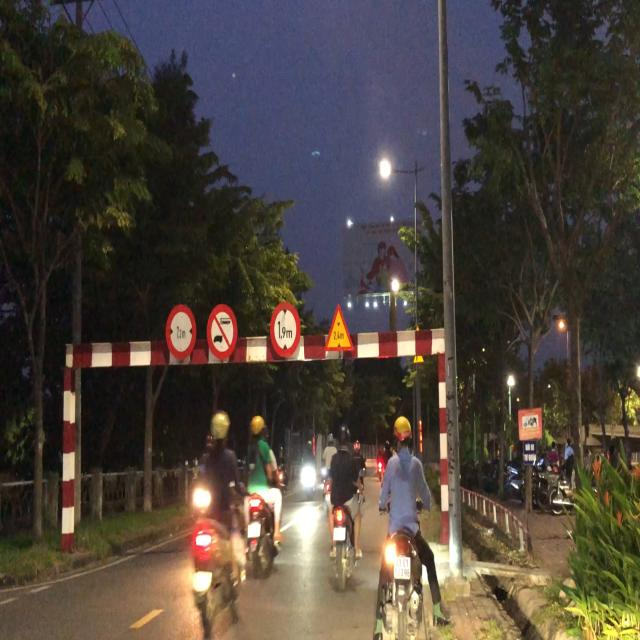Bien bao cam xe oto khach va xe oto tai: (205, 302, 239, 364)
Bien bao chieu cao tinh khong thuc te: (322, 299, 359, 356)
Bien bao han che chieu cao: (269, 293, 304, 363)
